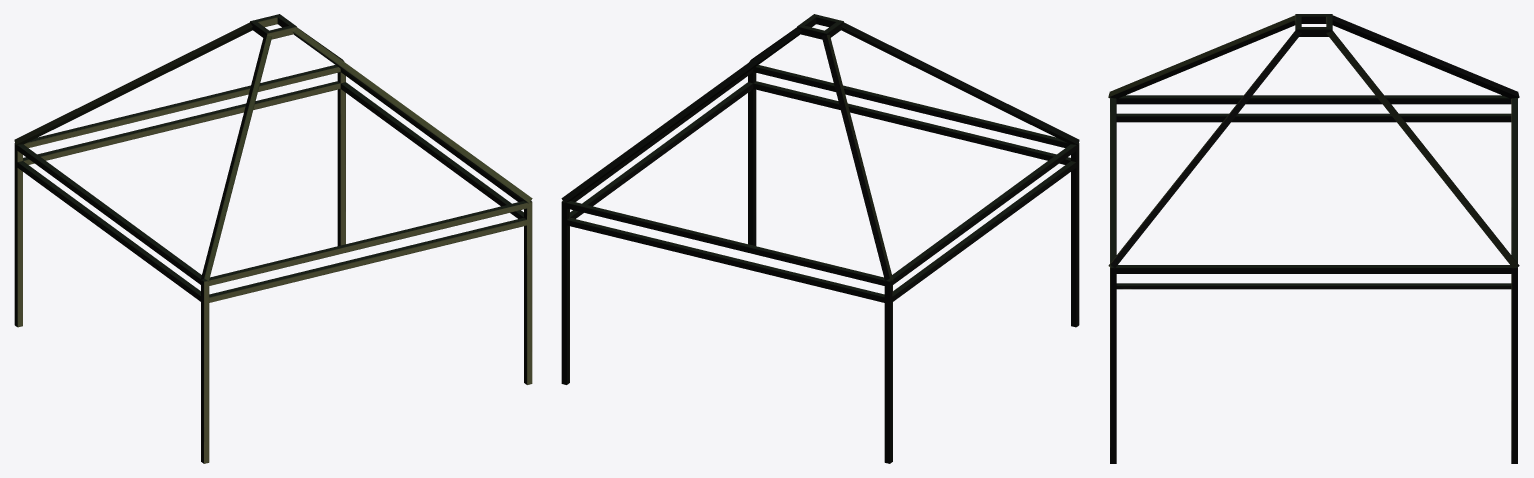
Rendered from tentframe.obj.
3 views of the same model, side by side, from view 1: azimuth 30°, elevation 25°; view 2: azimuth 150°, elevation 25°; view 3: azimuth 270°, elevation 25° (orthographic). The views are drawn at different scales.
Visible parts, largest first — view 1: polySurface44 polySurface41; view 2: polySurface44 polySurface41; view 3: polySurface44 polySurface41.
Boxes of the visible parts, x1,y1,x2,y2 form: polySurface44 polySurface41: [14, 14, 532, 463]; polySurface44 polySurface41: [561, 14, 1079, 463]; polySurface44 polySurface41: [1108, 14, 1519, 463].
Bounding box in the file's own units: 6.15 × 5.87 × 6.15.
1 material, 1 textured.
